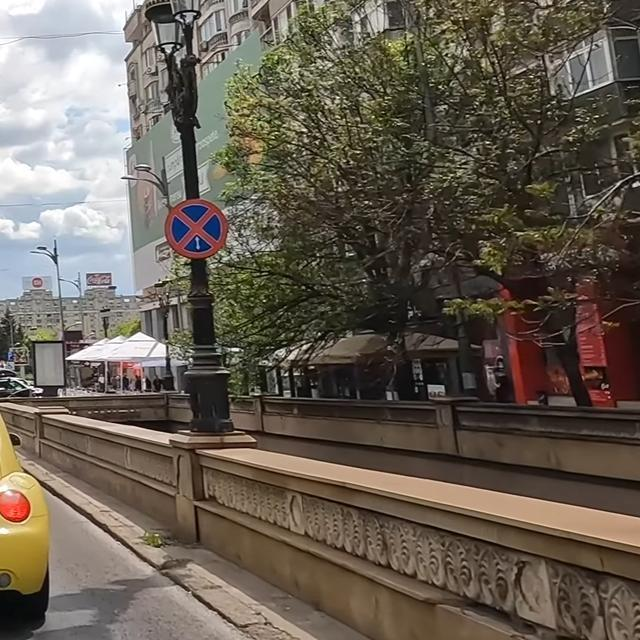forb_waiting: (164, 197, 228, 258)
